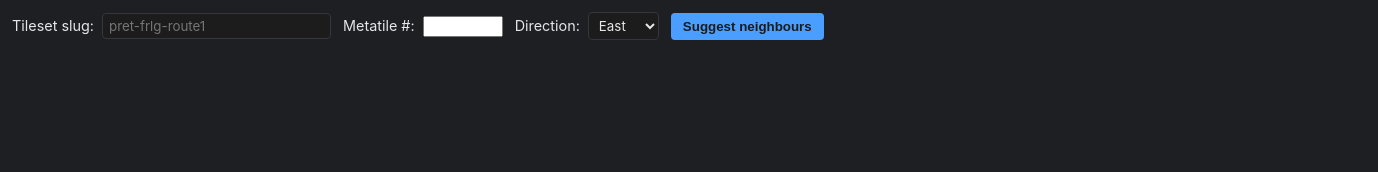
Test: TileNeighboursExplorer › refuses to submit when required inputs are missing
Click the button "Suggest neighbours": click(747, 26) left=671, top=12, right=824, bottom=40
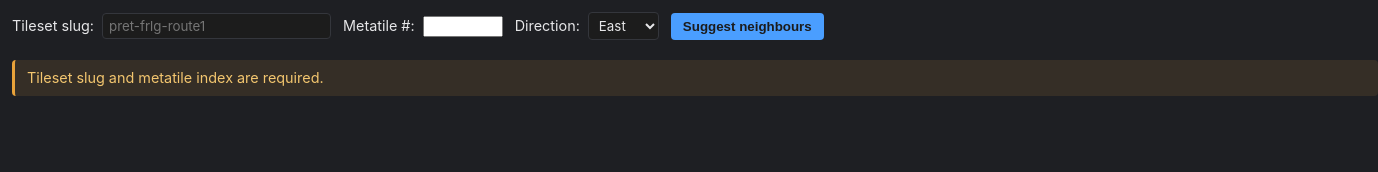
expect the text "Tileset slug and metatile index are required." is shown: met, box left=12, top=60, right=1377, bottom=96
